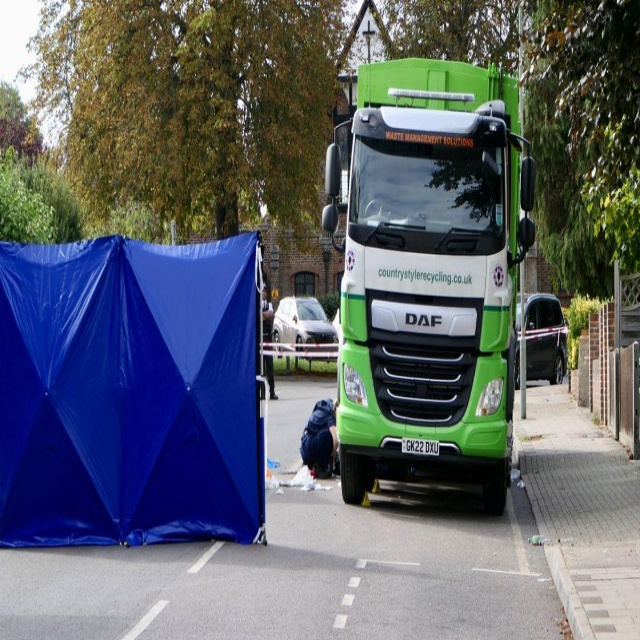Car: (514, 293, 570, 390), (274, 295, 339, 363)
Truck: (323, 55, 535, 519)
